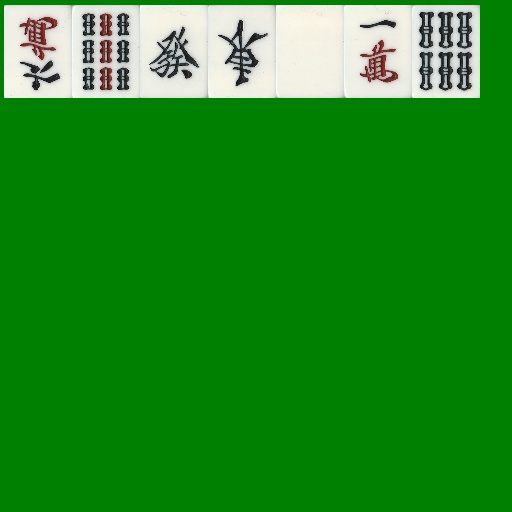1m: (344, 5, 412, 98)
6m: (4, 5, 72, 98)
6s: (412, 5, 480, 98)
9s: (72, 5, 140, 98)
east: (208, 5, 276, 98)
hatsu: (140, 5, 208, 98)
white: (276, 5, 344, 98)
